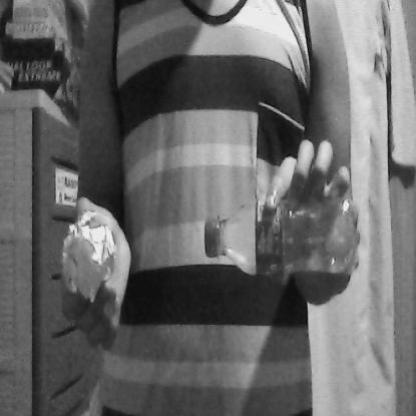Plastic Bottle: (200, 178, 367, 295)
